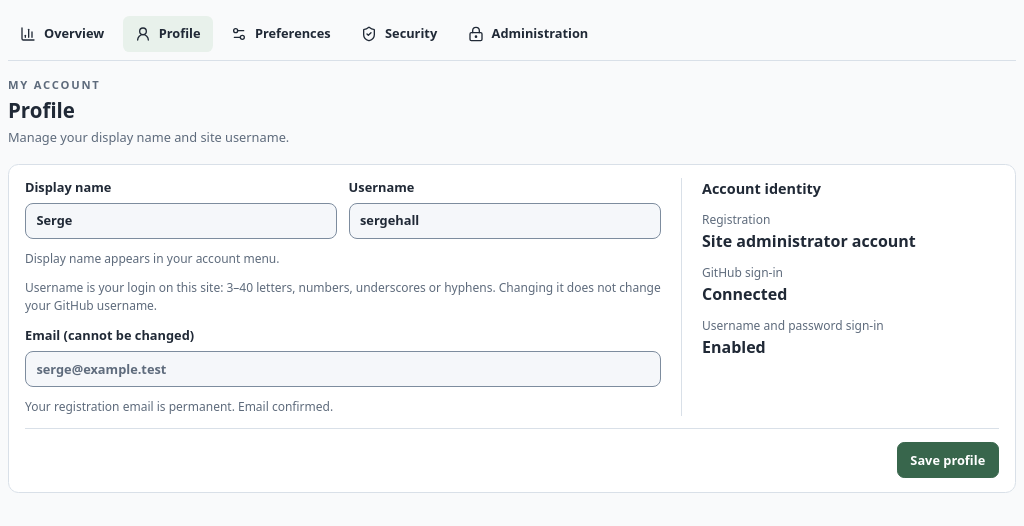
Owner account › explains a taken username and preserves the entered name
Replace the text in the field labelled "Username" with "taken_name". click: [505, 221]
box: [349,203,661,239]
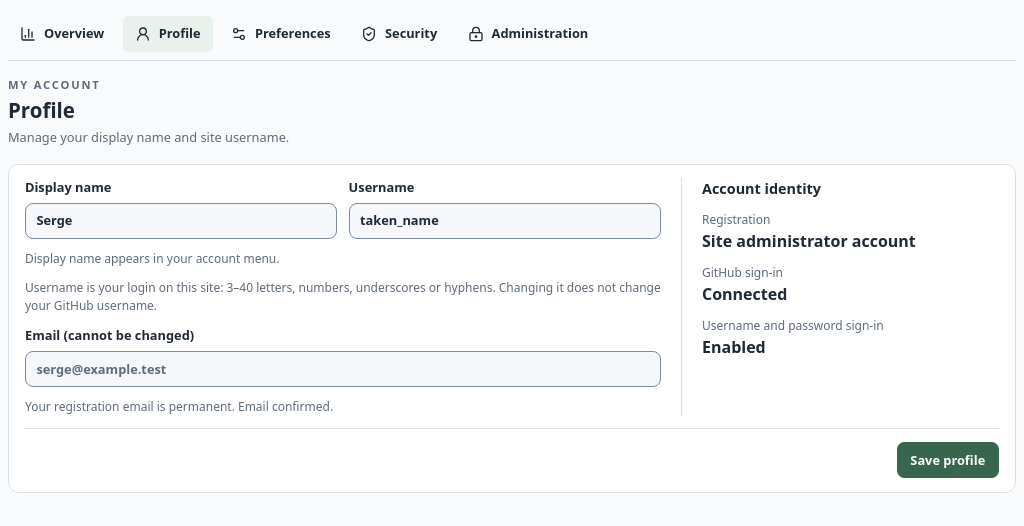
Click the button "Save profile". click: [948, 460]
box: [896,442,999,478]
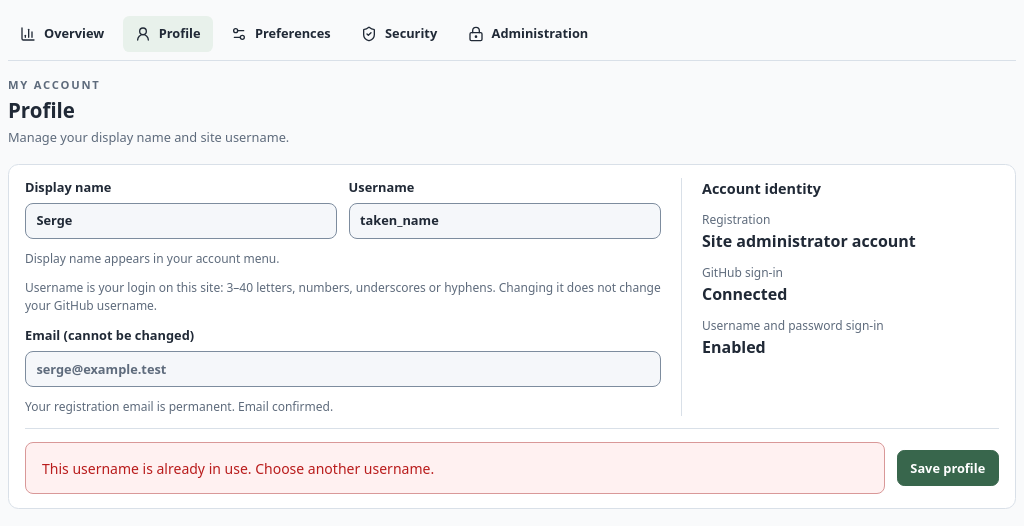
Now the message shows "This username is already in use", box [42,459,434,478]
